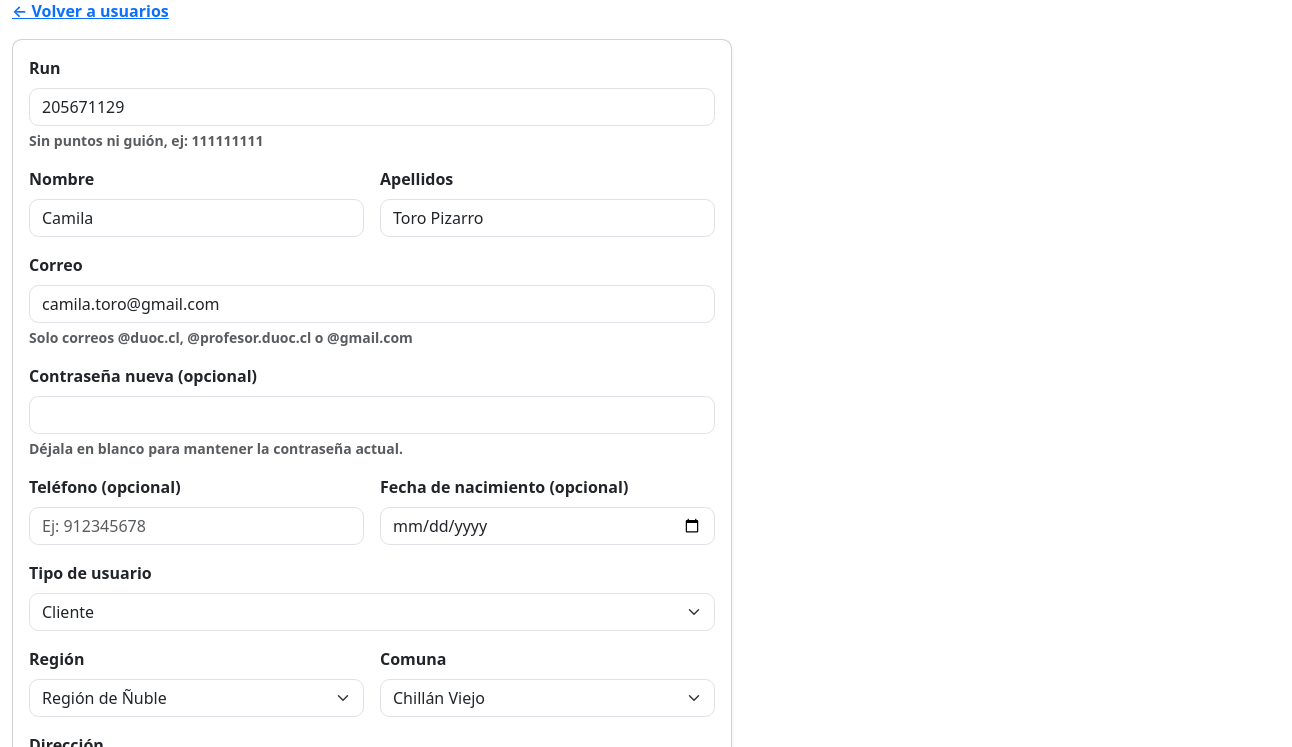
Test: pages/admin/UsuarioForm › al editar no permite usar el correo de otro usuario
The width and height of the screenshot is (1292, 747).
Replace the text in the field labelled "Correo" with "pedro.salinas@duoc.cl": (372, 304) [29,285,715,323]
(page scrolled)
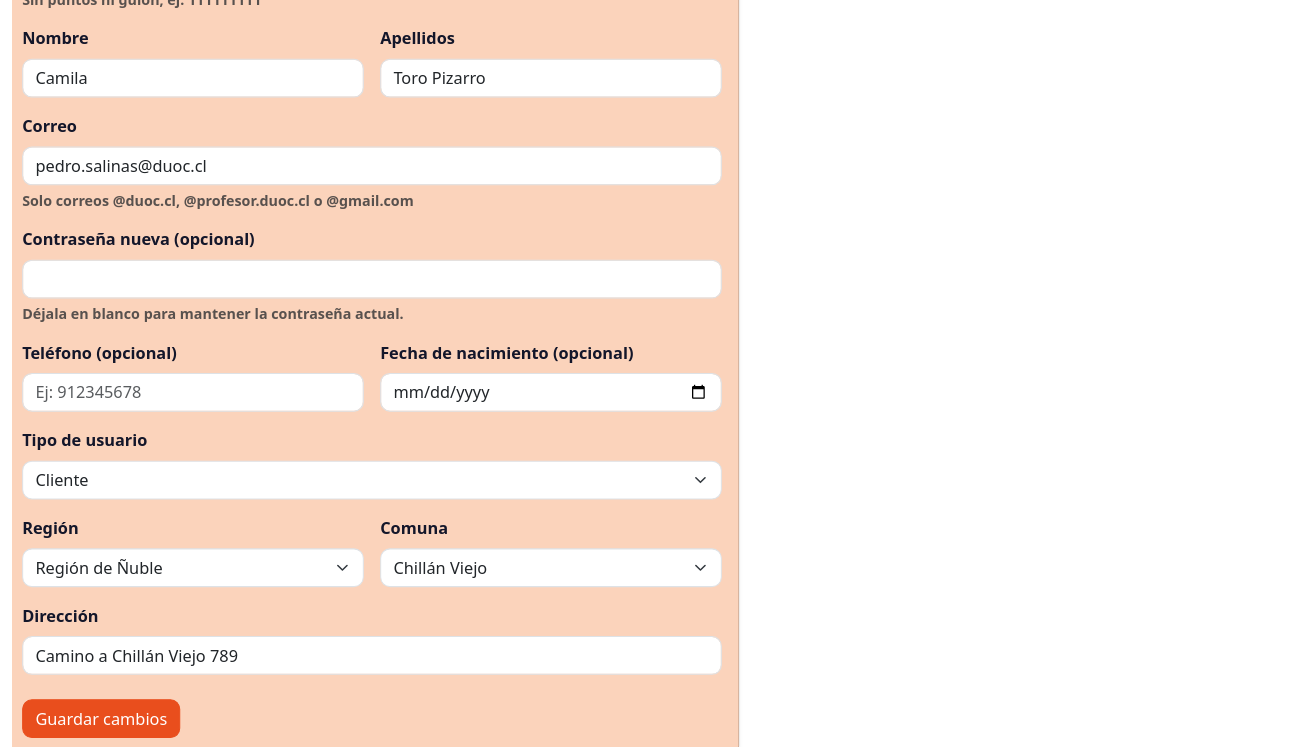
Click the button "Guardar cambios": (101, 718) [22,699,180,738]
(page scrolled)
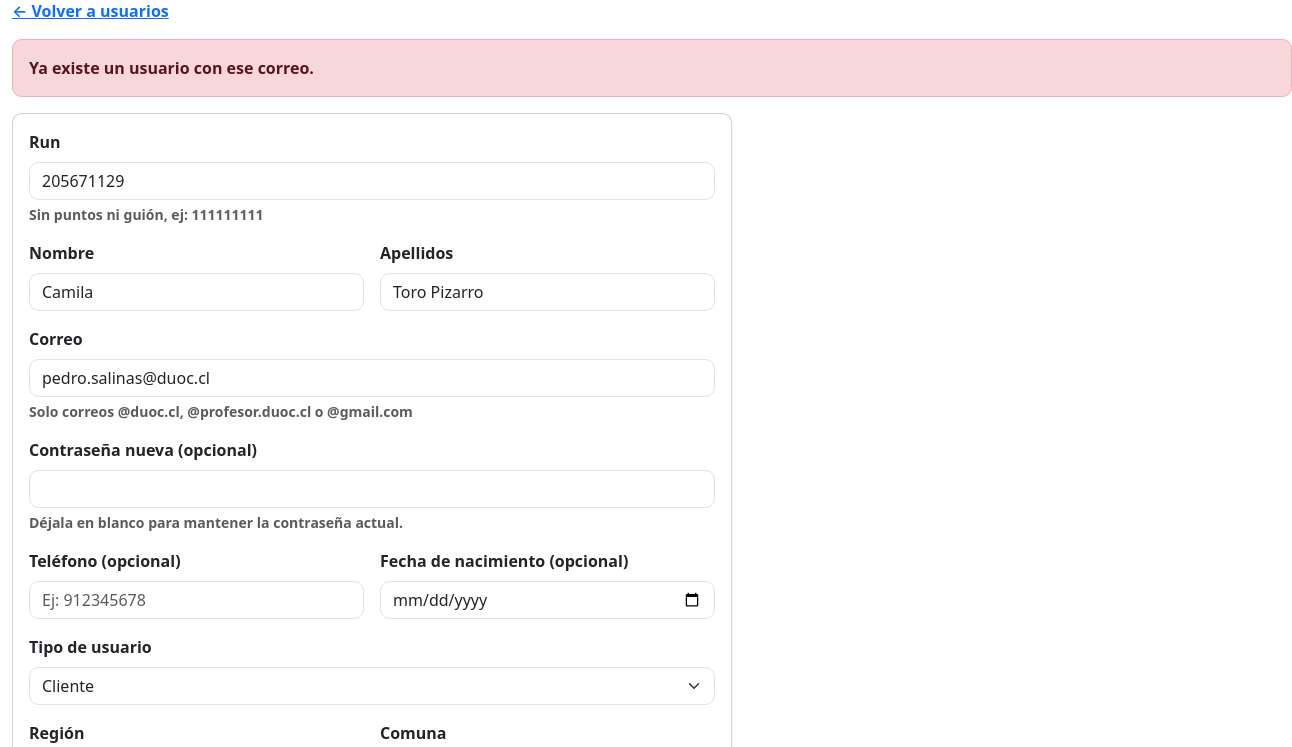
Check: the message reads "Ya existe un usuario con ese correo.", box [29,57,314,79]
